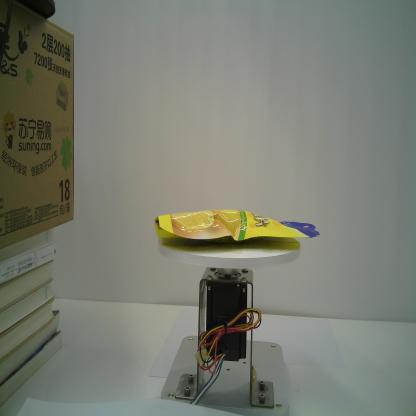Dried Fruit: (153, 208, 321, 246)
